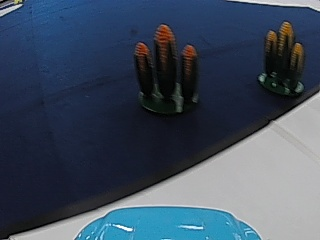corn: (133, 27, 198, 116), (259, 19, 306, 98)
